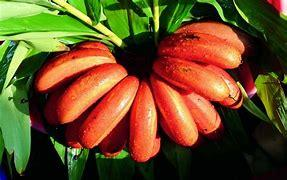banana: (32, 19, 254, 159), (24, 42, 158, 162), (146, 67, 248, 142), (150, 25, 249, 64)
